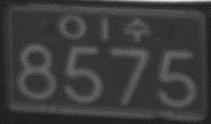0: (58, 14, 86, 41)
1: (92, 15, 117, 40)
5: (157, 50, 197, 109), (63, 46, 102, 104)
7: (110, 46, 149, 105)
8: (17, 43, 57, 101)
수: (124, 17, 150, 42)
